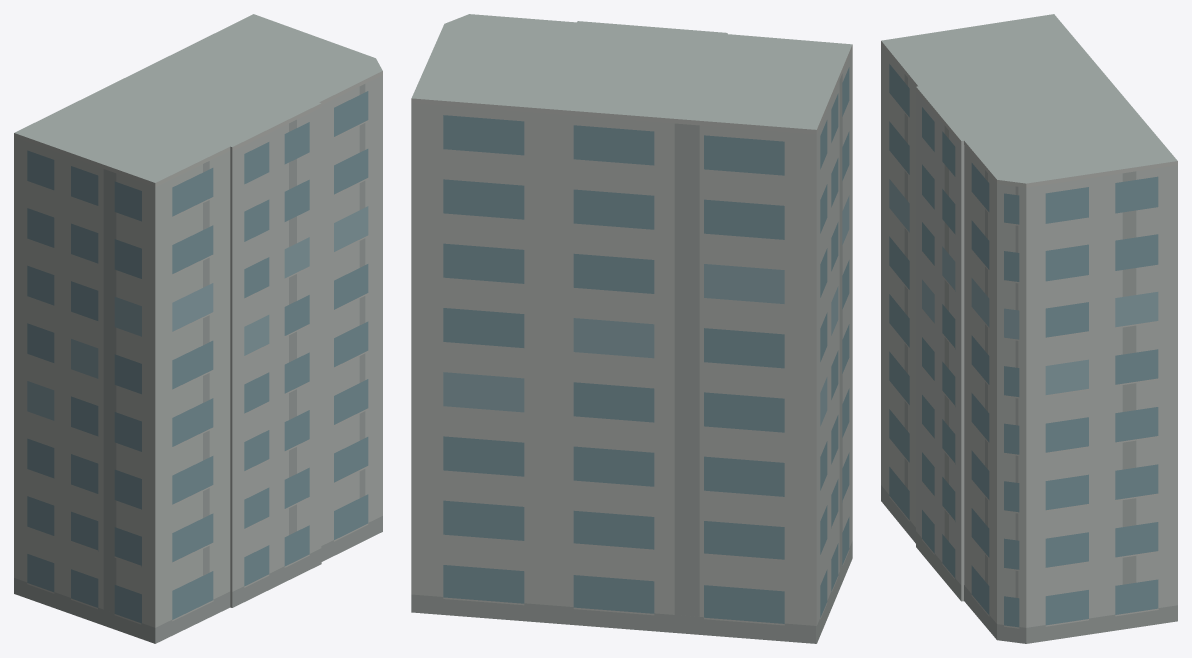
The model's file is survey-upis-32987005.glb.
3 renders of one model, left to right at view 1: azimuth 30°, elevation 25°; view 2: azimuth 150°, elevation 25°; view 3: azimuth 270°, elevation 25°, orthographic. The views are drawn at different scales.
Visible parts, largest first — view 1: survey-upis-32987005.tmp; view 2: survey-upis-32987005.tmp; view 3: survey-upis-32987005.tmp.
Part boxes in pixels (bbox=[...]): survey-upis-32987005.tmp: bbox=[14, 14, 382, 643]; survey-upis-32987005.tmp: bbox=[411, 14, 852, 643]; survey-upis-32987005.tmp: bbox=[881, 14, 1177, 643].
Size of the model in its own units: 21.22 by 26.85 by 15.7.
